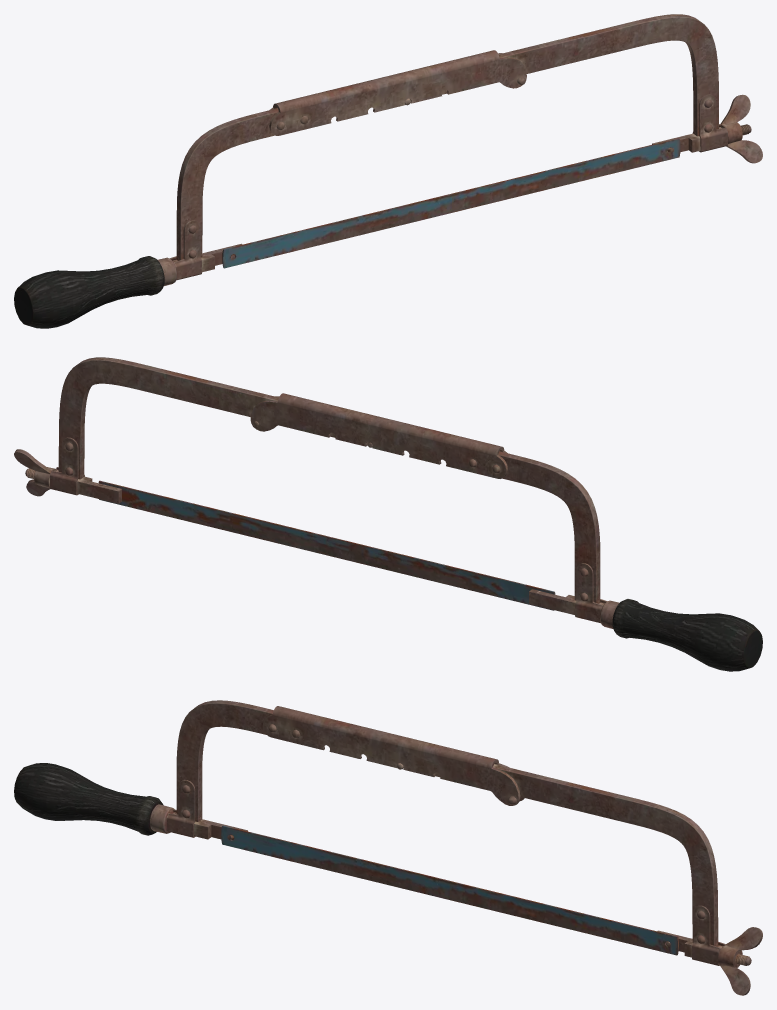
File: rusted_hacksaw.glb
3 views of the same model, one above another, from view 1: azimuth 30°, elevation 25°; view 2: azimuth 150°, elevation 25°; view 3: azimuth 330°, elevation 25° (orthographic).
Parts seen in each view (by area): view 1: rusted_hacksaw; view 2: rusted_hacksaw; view 3: rusted_hacksaw.
Boxes of the visible parts, x1=… form: rusted_hacksaw: x1=14, y1=14, x2=762, y2=328; rusted_hacksaw: x1=14, y1=357, x2=762, y2=671; rusted_hacksaw: x1=14, y1=700, x2=762, y2=995.
Size of the model in its own units: 0.4964 by 0.1094 by 0.0328.
Materials: 1 (1 with a texture image).
